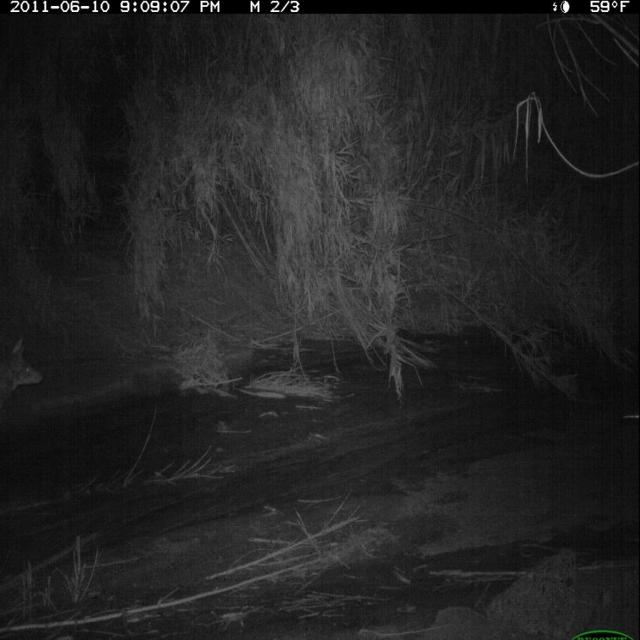coyote: (2, 325, 45, 418)
